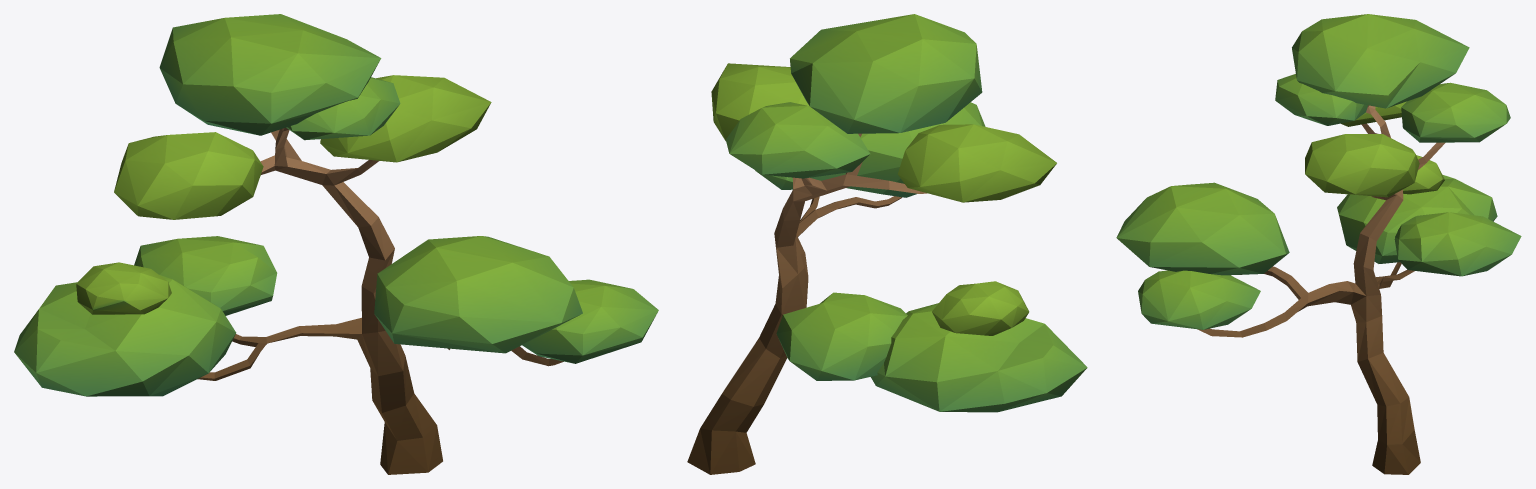
Rendered from ZLP_Plant_B_4.FBX.
3 views of the same model, side by side, from view 1: azimuth 30°, elevation 25°; view 2: azimuth 150°, elevation 25°; view 3: azimuth 270°, elevation 25° (orthographic). The views are drawn at different scales.
Parts seen in each view (by area): view 1: ZLP_Plant_B_4; view 2: ZLP_Plant_B_4; view 3: ZLP_Plant_B_4.
Boxes of the visible parts, x1,y1,x2,y2 form: ZLP_Plant_B_4: [14, 14, 658, 474]; ZLP_Plant_B_4: [687, 14, 1087, 474]; ZLP_Plant_B_4: [1116, 14, 1521, 474].
Size of the model in its own units: 513 by 492 by 481.
